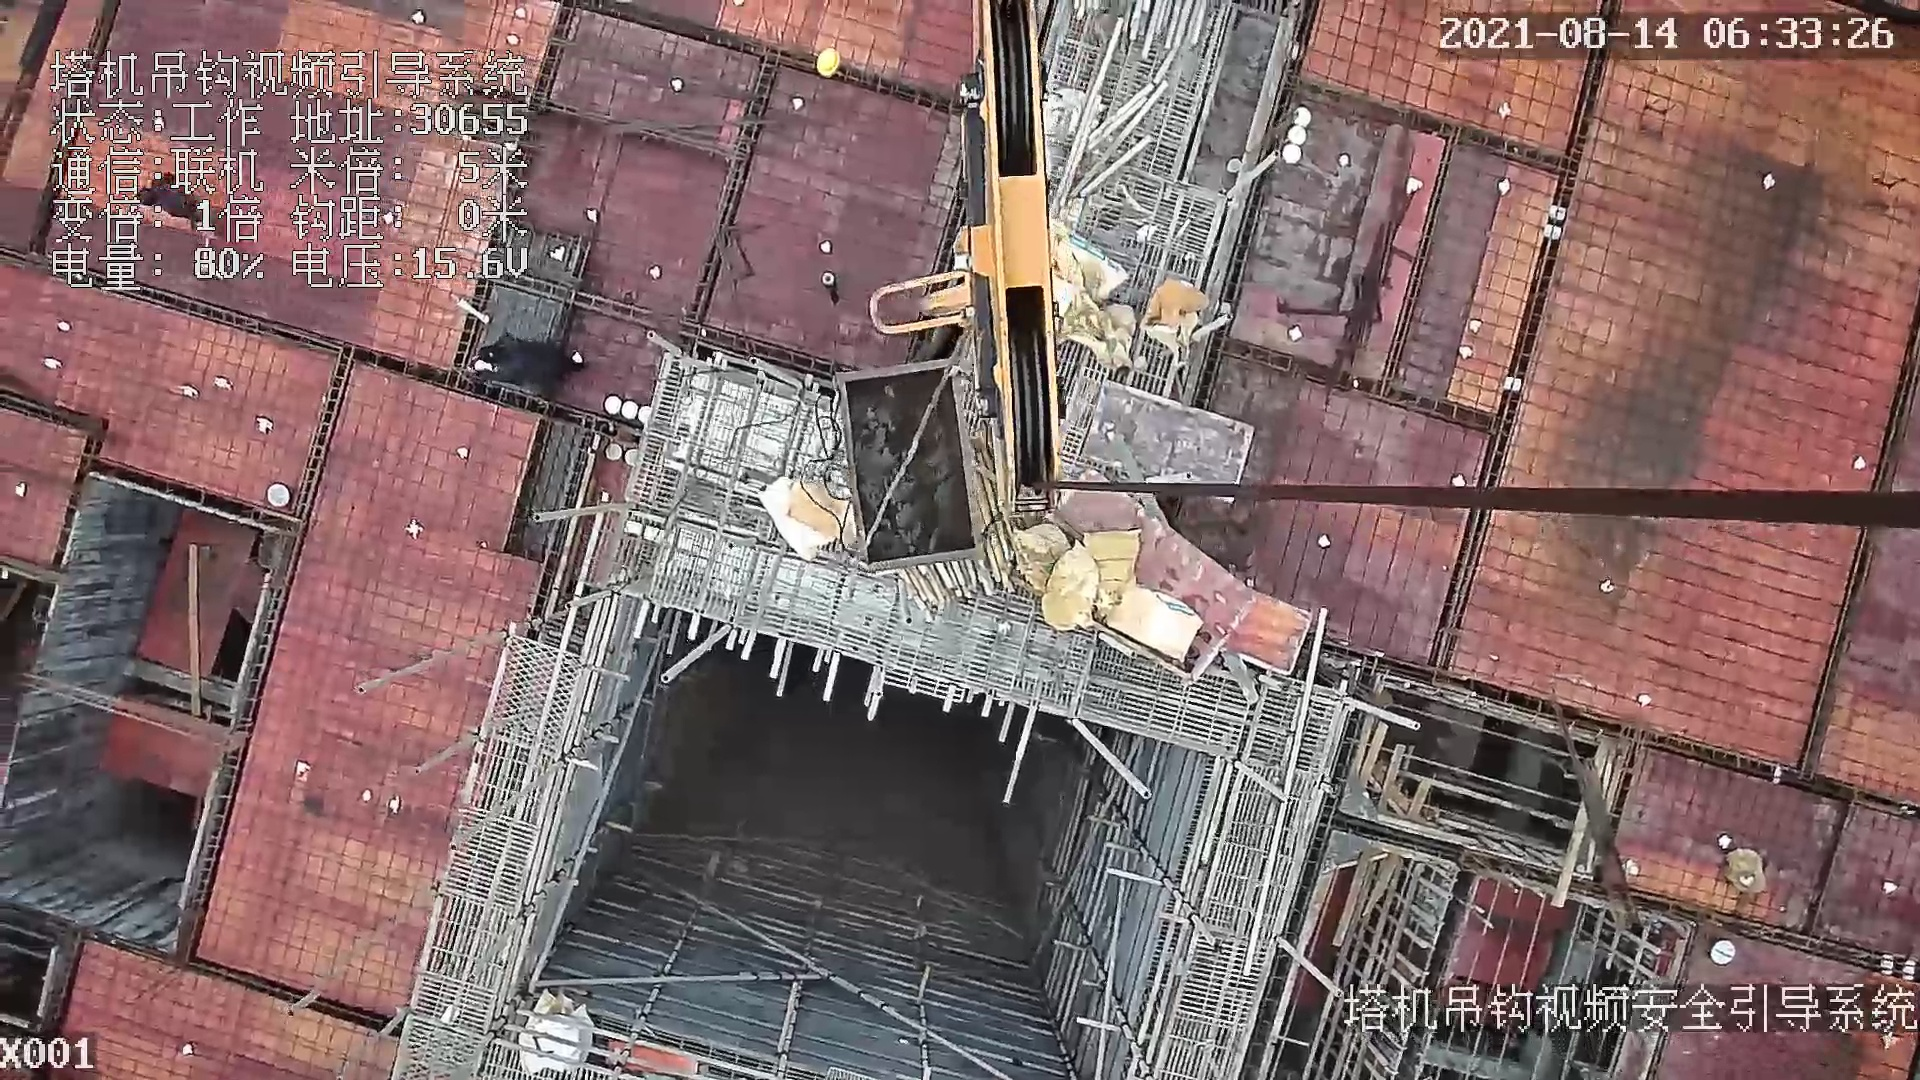helmet: (812, 50, 844, 85)
hook: (860, 1, 1062, 515)
hopper: (833, 362, 986, 574)
person: (465, 327, 595, 391)
